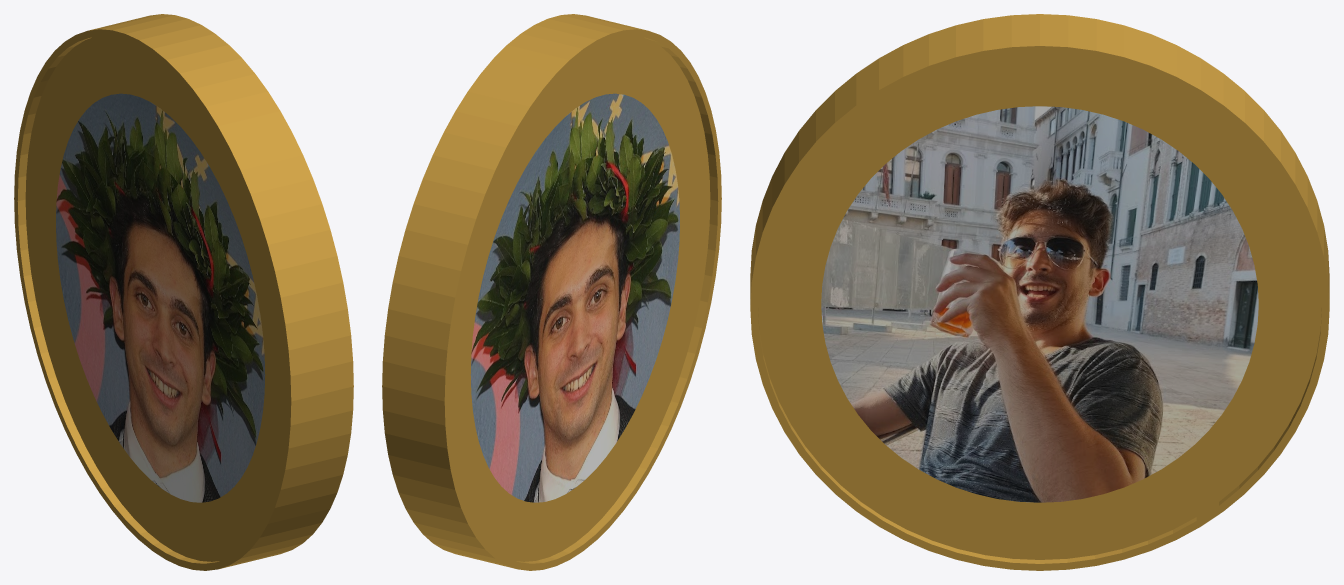
Rendered from coin1.obj.
The picture shows the model from 3 angles, left to right: view 1: azimuth 30°, elevation 25°; view 2: azimuth 150°, elevation 25°; view 3: azimuth 270°, elevation 25°; orthographic projection. The views are drawn at different scales.
Visible parts, largest first — view 1: Cylinder.006_Cylinder.007, Cylinder.001_Cylinder.002; view 2: Cylinder.006_Cylinder.007, Cylinder.001_Cylinder.002; view 3: Cylinder.002_Cylinder.003, Cylinder.006_Cylinder.007.
Part boxes in pixels (x1,y1,x2,y2): Cylinder.006_Cylinder.007: (14,14,353,570); Cylinder.001_Cylinder.002: (56,93,265,502); Cylinder.006_Cylinder.007: (382,14,721,570); Cylinder.001_Cylinder.002: (470,93,679,502); Cylinder.002_Cylinder.003: (821,106,1258,502); Cylinder.006_Cylinder.007: (750,14,1329,570).
Bounding box in the file's own units: 0.5997 × 4.6 × 4.6.
3 materials, 2 textured.
